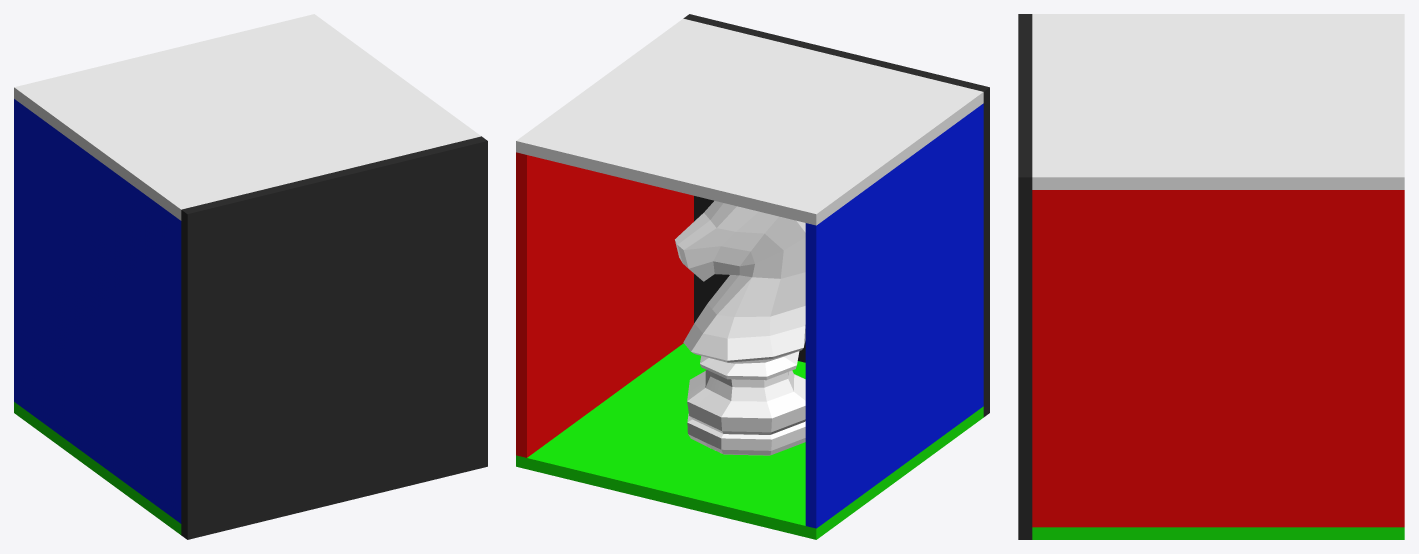
Rendered from KnightBox.glb.
3 renders of one model, left to right at view 1: azimuth 30°, elevation 25°; view 2: azimuth 150°, elevation 25°; view 3: azimuth 270°, elevation 25°, orthographic. The views are drawn at different scales.
Parts seen in each view (by area): view 1: Cube (4), Cube (3), Cube (1), Cube (2); view 2: Cube (3), Cube (1), Cube, Knight, Cube (2), Cube (4); view 3: Cube, Cube (3), Cube (4), Cube (2).
Part boxes in pixels (x1=…): Cube (4): x1=181, y1=136, x2=487, y2=539; Cube (3): x1=14, y1=14, x2=480, y2=220; Cube (1): x1=14, y1=99, x2=181, y2=523; Cube (2): x1=14, y1=402, x2=181, y2=534; Cube (3): x1=516, y1=18, x2=983, y2=225; Cube (1): x1=805, y1=103, x2=983, y2=528; Cube: x1=516, y1=152, x2=693, y2=457; Knight: x1=675, y1=200, x2=805, y2=455; Cube (2): x1=516, y1=343, x2=983, y2=539; Cube (4): x1=683, y1=14, x2=989, y2=417; Cube: x1=1032, y1=190, x2=1404, y2=527; Cube (3): x1=1032, y1=14, x2=1404, y2=189; Cube (4): x1=1018, y1=14, x2=1032, y2=539; Cube (2): x1=1032, y1=527, x2=1404, y2=539.
Size of the model in its own units: 4.15 by 4.3 by 4.15.
